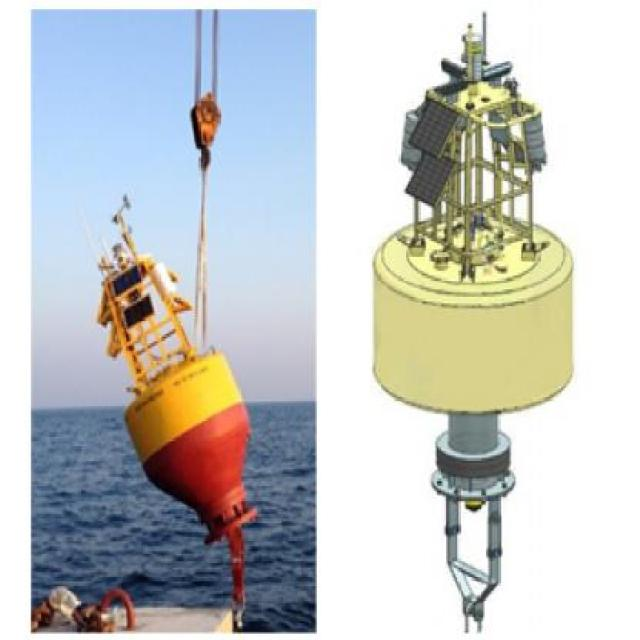buoy: (60, 186, 269, 487)
